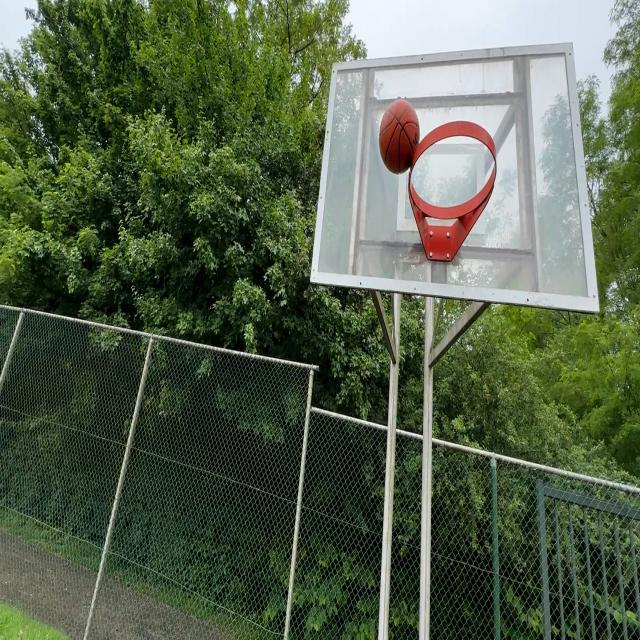rebound_hit: (380, 98, 420, 176)
